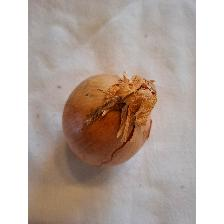Zwiebel: (60, 68, 160, 170)
